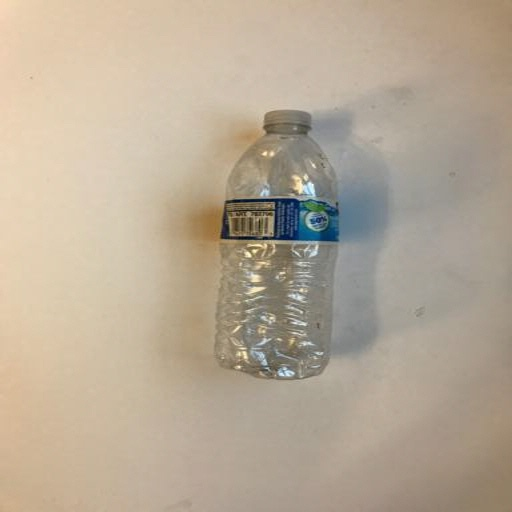Plastic_0: (215, 108, 339, 384)
